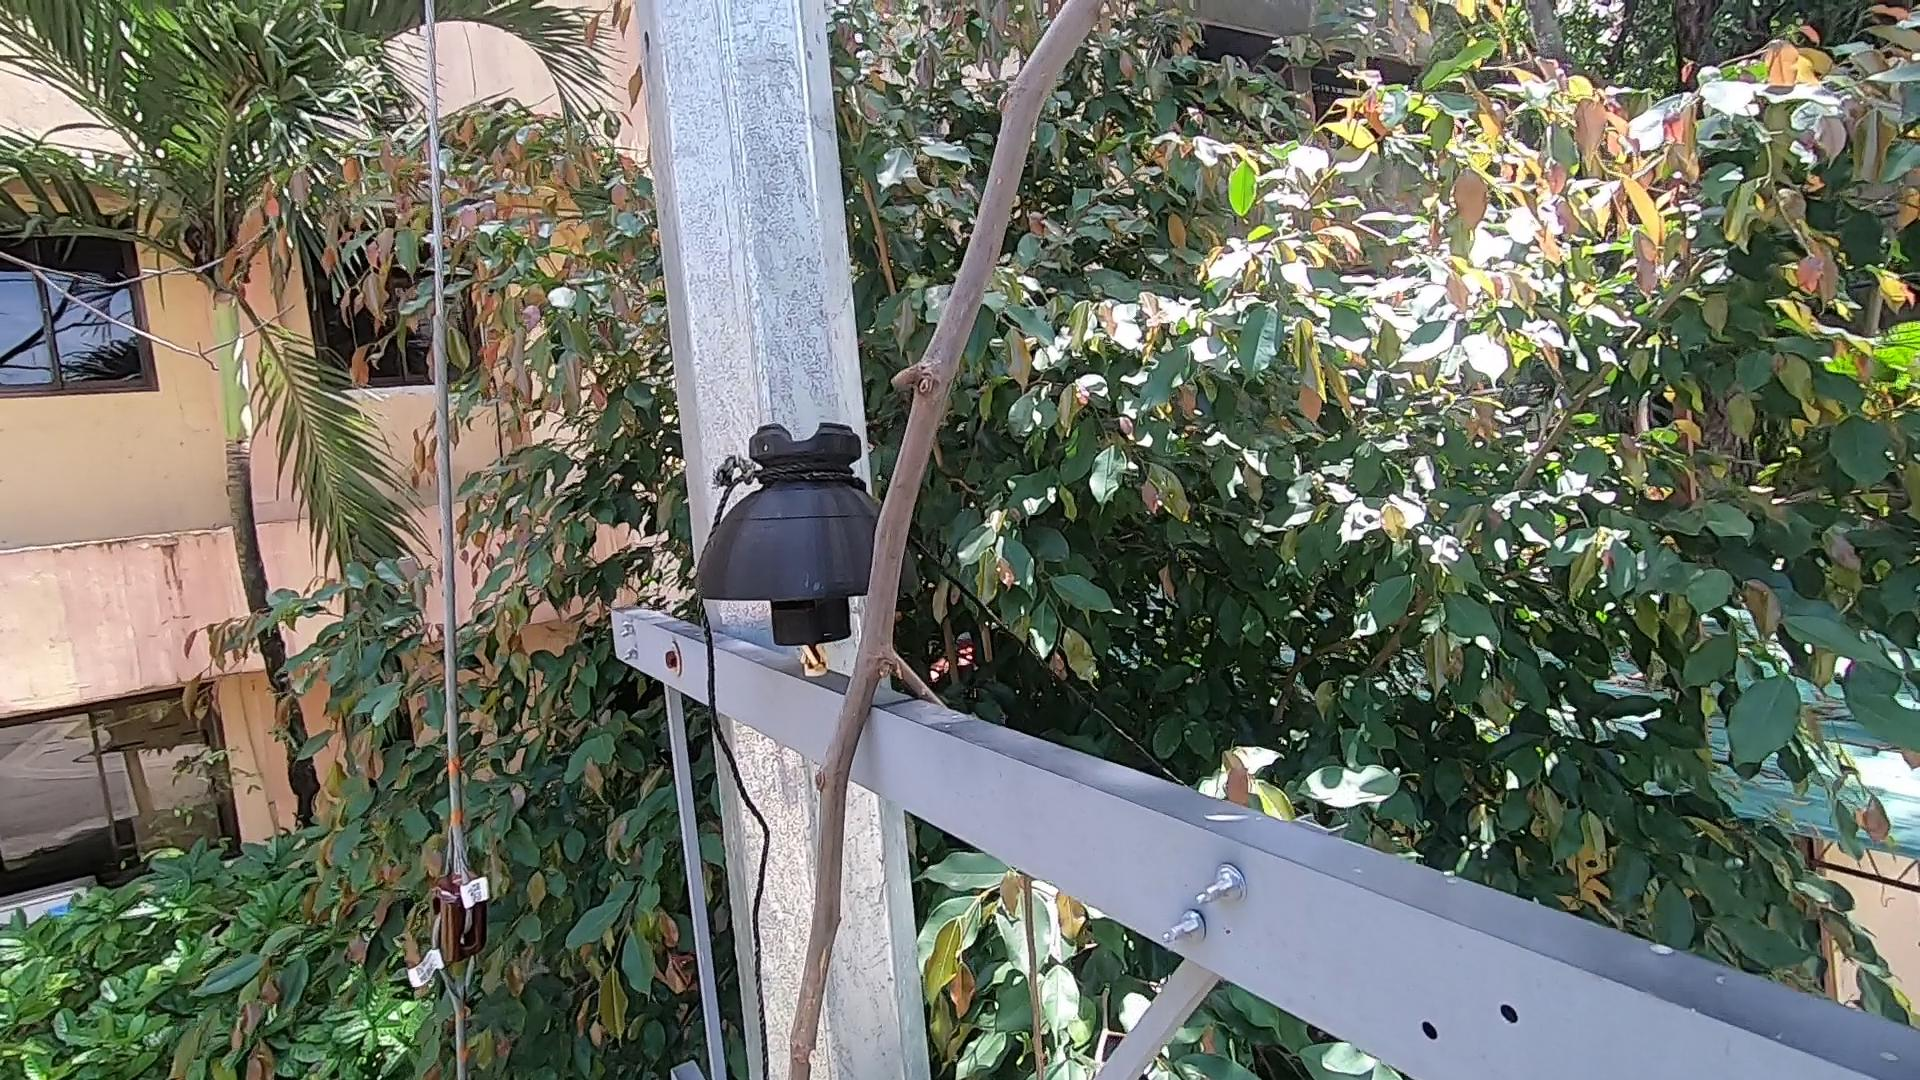tree branch: (742, 3, 1133, 1080)
